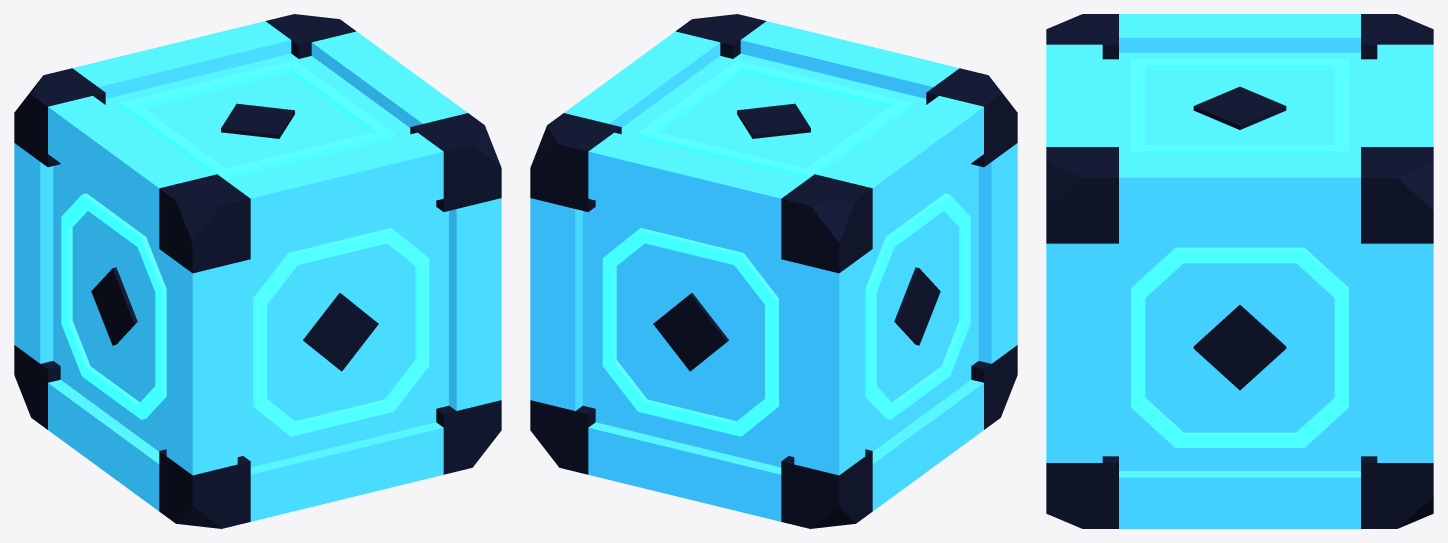
File: shiftable_block.glb
The picture shows the model from 3 angles, left to right: view 1: azimuth 30°, elevation 25°; view 2: azimuth 150°, elevation 25°; view 3: azimuth 270°, elevation 25°; orthographic projection. The views are drawn at different scales.
Parts seen in each view (by area): view 1: ShiftBlk_Body, ShiftBlk_Caps, ShiftBlk_Glow; view 2: ShiftBlk_Body, ShiftBlk_Caps, ShiftBlk_Glow; view 3: ShiftBlk_Body, ShiftBlk_Caps, ShiftBlk_Glow.
Boxes of the visible parts, x1,y1,x2,y2 form: ShiftBlk_Body: (14,21,501,521); ShiftBlk_Caps: (14,14,501,528); ShiftBlk_Glow: (61,60,429,436); ShiftBlk_Body: (530,21,1017,521); ShiftBlk_Caps: (530,14,1017,528); ShiftBlk_Glow: (602,60,970,436); ShiftBlk_Body: (1046,14,1433,528); ShiftBlk_Caps: (1046,14,1433,528); ShiftBlk_Glow: (1131,59,1348,447).
Bounding box in the file's own units: 0.96 × 0.96 × 0.96.
